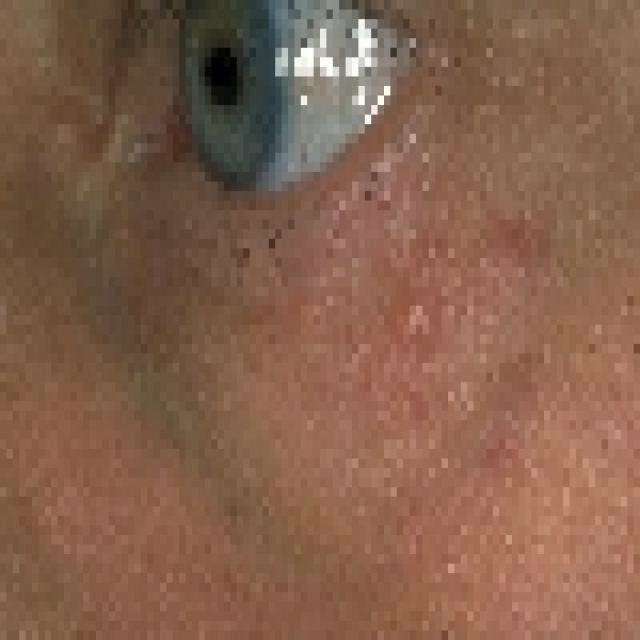lupus: (296, 231, 545, 460)
